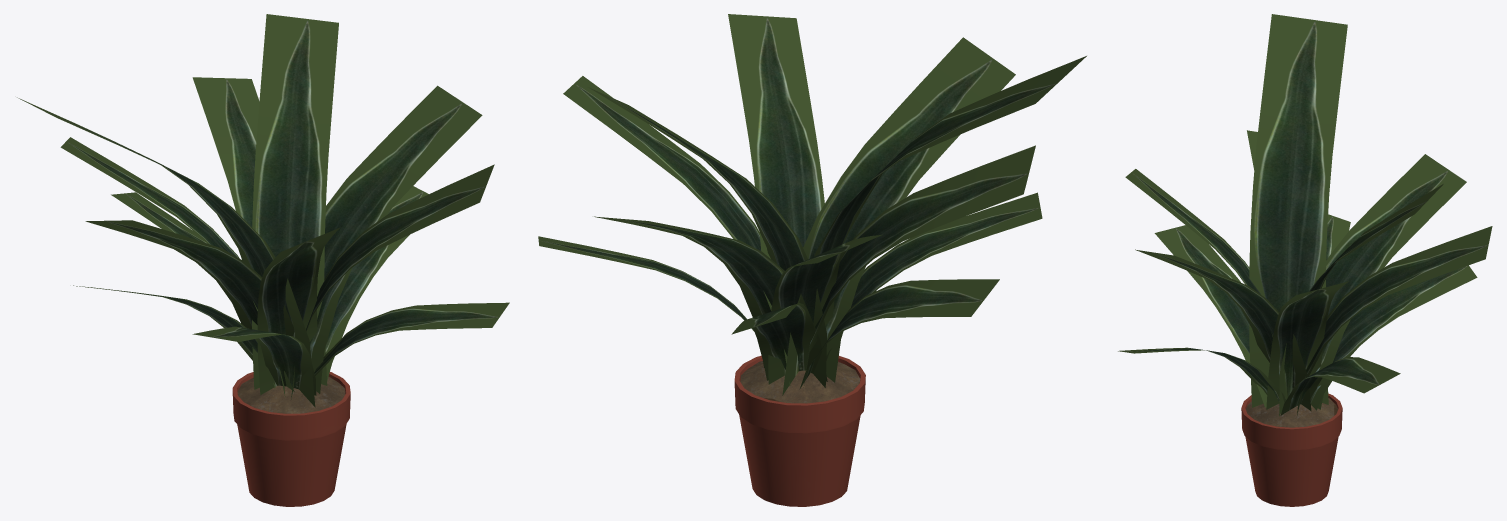
Rendered from plant2.glb.
3 renders of one model, left to right at view 1: azimuth 30°, elevation 25°; view 2: azimuth 150°, elevation 25°; view 3: azimuth 270°, elevation 25°, orthographic. The views are drawn at different scales.
Parts seen in each view (by area): view 1: eb_house_plant_02; view 2: eb_house_plant_02; view 3: eb_house_plant_02.
Boxes of the visible parts, x1,y1,x2,y2 form: eb_house_plant_02: [17, 14, 509, 506]; eb_house_plant_02: [538, 14, 1086, 506]; eb_house_plant_02: [1118, 14, 1492, 506].
Size of the model in its own units: 59.45 by 56.73 by 51.6.
Materials: 1 (1 with a texture image).
